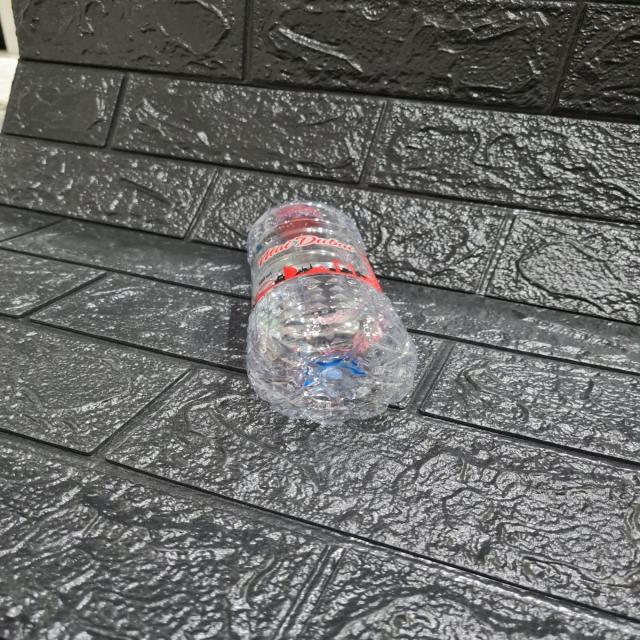bottle: (222, 190, 426, 430)
